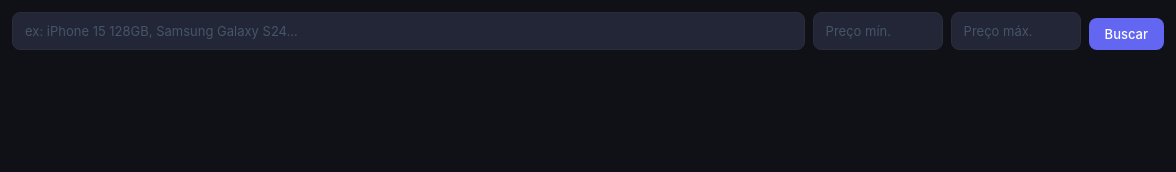
Test: SearchByName › blocks submit when the query is too short
The image size is (1176, 172).
Type "a" into the field with placeholder "ex: iPhone 15 128GB, Samsung Galaxy S24..." at x=408, y=31, box top-left (12, 12), bottom-right (805, 50)
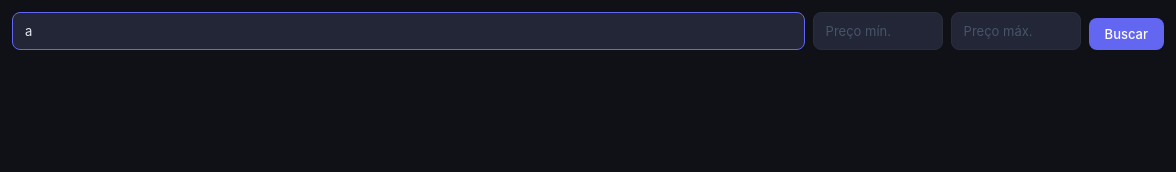
Click the button "Buscar" at x=1126, y=34, box top-left (1089, 18), bottom-right (1164, 50)
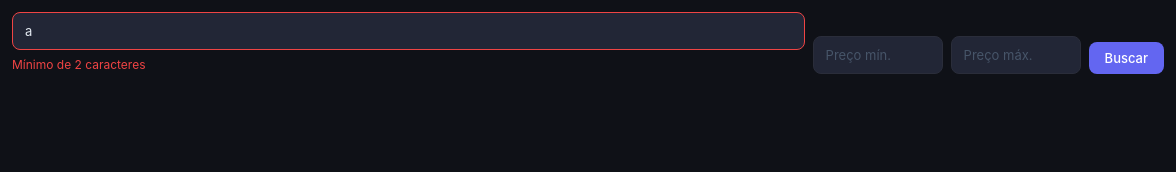
Check: the text "Mínimo de 2 caracteres" is shown, box top-left (12, 57), bottom-right (146, 72)
